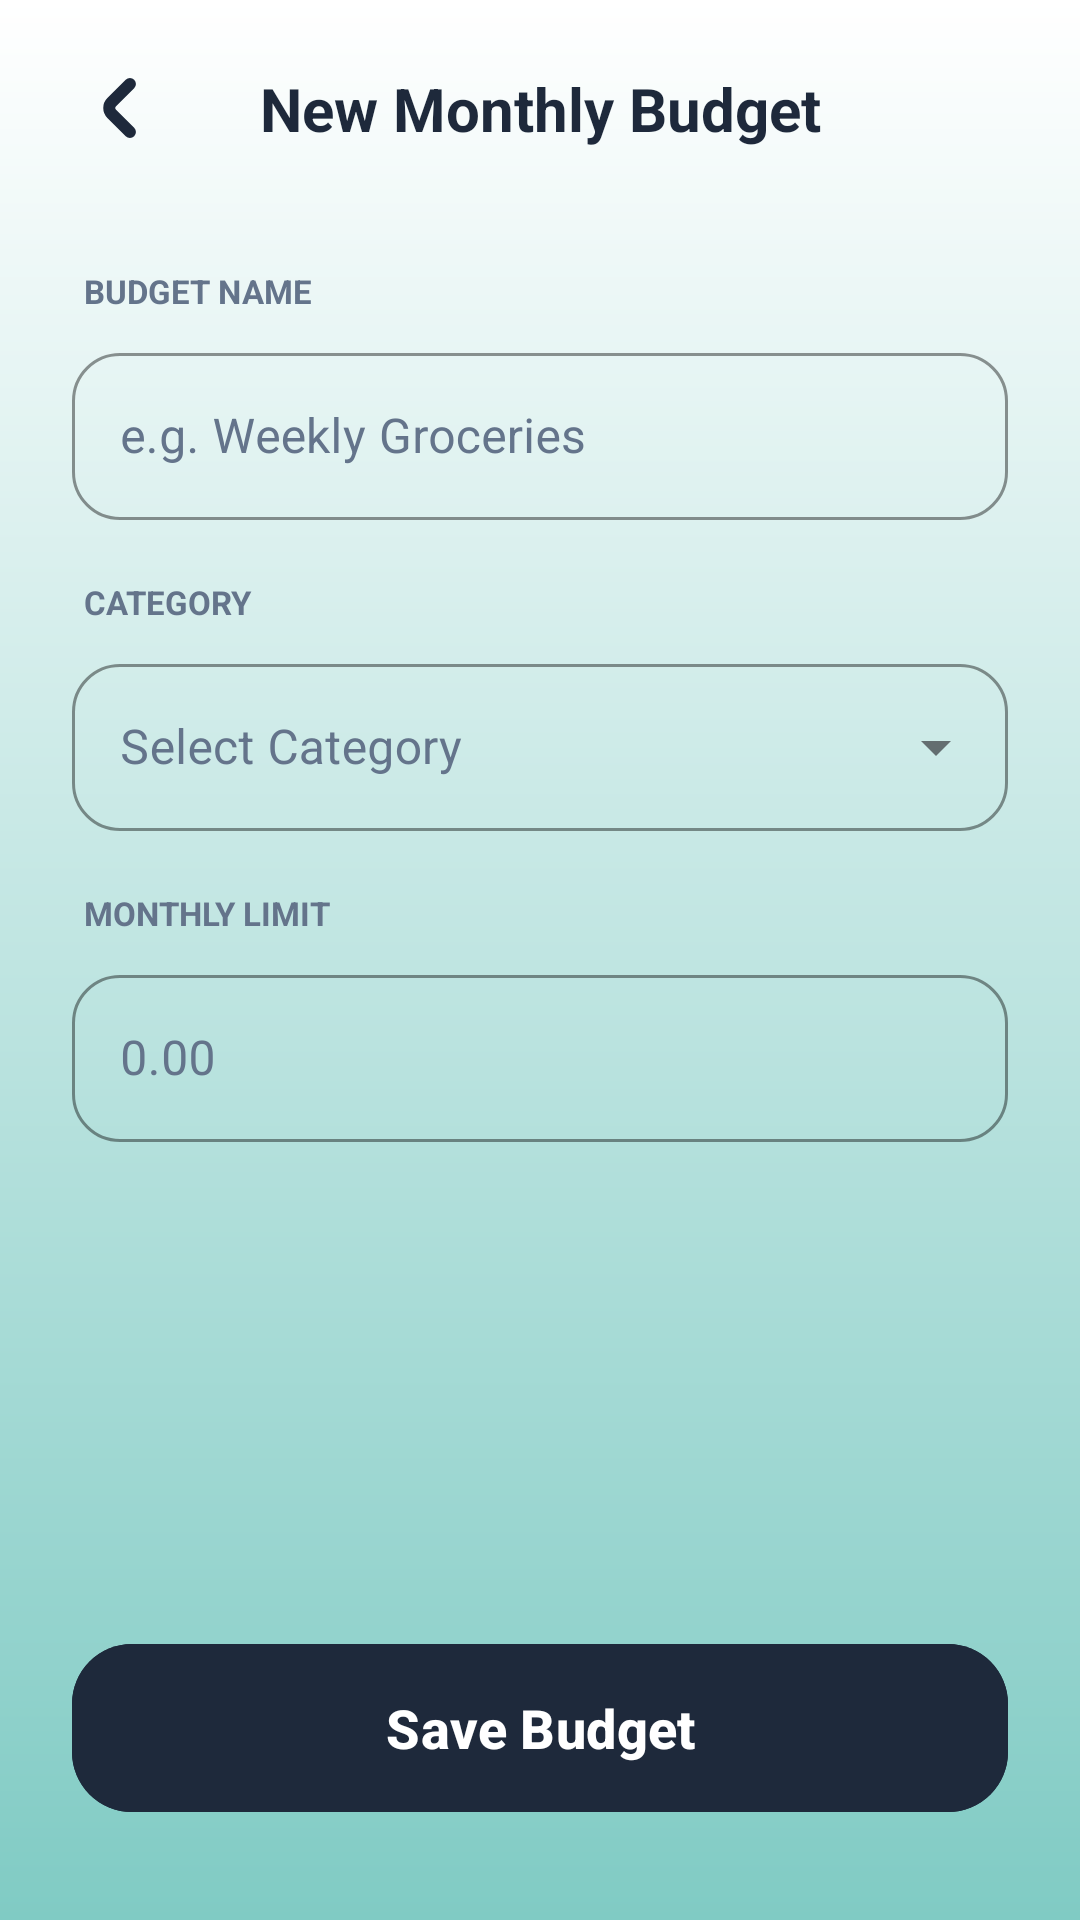

Where to tap for icons on this 1080x1920 app screen, as [x,y]:
back: [119,108]
